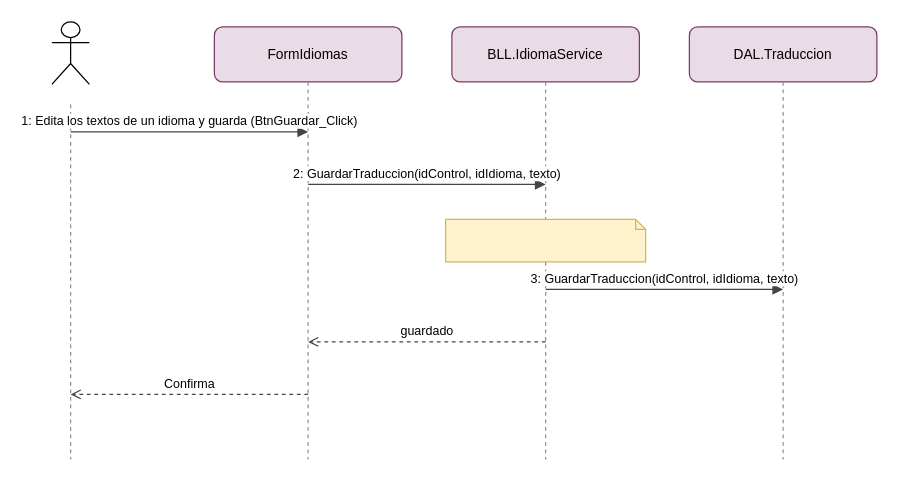
This 899x483 diagram has some shape labels left out. Here are the shapes that lost their labels. From the top down, the centre of each, then its label:
(70,52): Administrador
(545,240): exige el permiso Usuarios · un texto en blanco no se guarda (queda el fallback)
